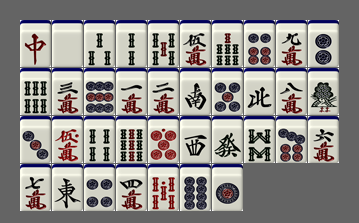0m: (52, 116, 83, 163)
0p: (148, 116, 179, 163)
0s: (148, 164, 179, 211)
1m: (116, 68, 147, 115)
1p: (212, 164, 243, 211)
1s: (308, 68, 339, 115)
1z: (52, 164, 83, 211)
2m: (148, 68, 179, 115)
2p: (308, 20, 339, 67)
2s: (116, 20, 147, 67)
2z: (180, 68, 211, 115)
3m: (52, 68, 83, 115)
3p: (20, 116, 51, 163)
3s: (84, 20, 115, 67)
3z: (180, 116, 211, 163)
4m: (116, 164, 147, 211)
4p: (84, 164, 115, 211)
4s: (84, 116, 115, 163)
4z: (244, 68, 275, 115)
5m: (180, 20, 211, 67)
5p: (212, 68, 243, 115)
5s: (148, 20, 179, 67)
5z: (52, 20, 83, 67)
6m: (308, 116, 339, 163)
6p: (244, 20, 275, 67)
6s: (20, 68, 51, 115)
6z: (212, 116, 243, 163)
7m: (20, 164, 51, 211)
7p: (276, 116, 307, 163)
7s: (212, 20, 243, 67)
7z: (20, 20, 51, 67)
8m: (276, 68, 307, 115)
8p: (180, 164, 211, 211)
8s: (244, 116, 275, 163)
9m: (276, 20, 307, 67)
9p: (84, 68, 115, 115)
9s: (116, 116, 147, 163)
